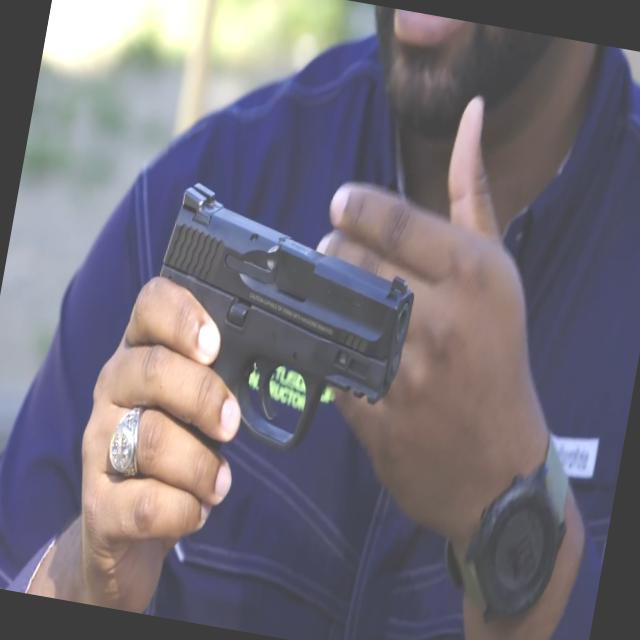handgun: (98, 159, 448, 549)
